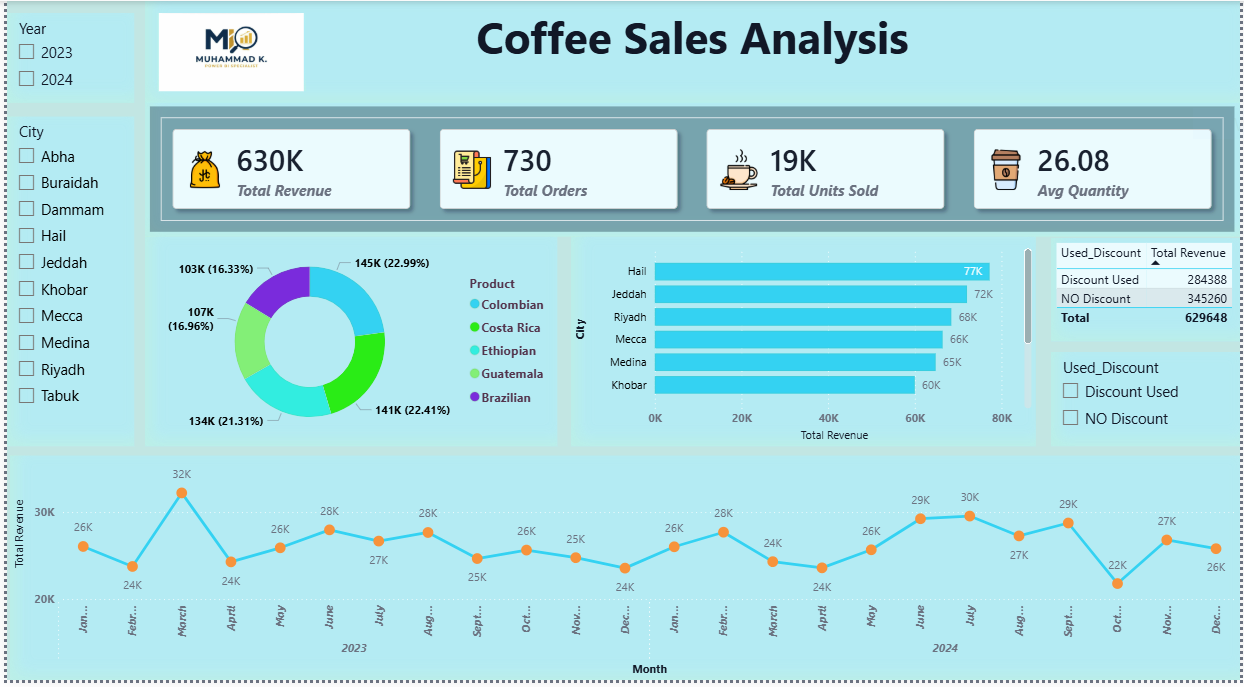

The dashboard page shown, as its layout file describes it:
{"tool":"powerbi","page":{"name":"Page 1","canvas":[1344,740],"ordinal":0},"visuals":[{"type":"cardVisual","fields":{"Data":["Coffee_Sales.Total Revenue","Coffee_Sales.Total Orders","Coffee_Sales.Total Units Sold","Coffee_Sales.Avg Quantity"]},"box":[150.4,109.5,1193.4,147.1],"z":0},{"type":"lineChart","fields":{"Category":["Coffee_Sales.Date.Variation.Date Hierarchy.Year","Coffee_Sales.Date.Variation.Date Hierarchy.Month"],"Y":["Coffee_Sales.Total Revenue"]},"box":[3.3,495.3,1340.5,245.2],"z":1000},{"type":"clusteredBarChart","fields":{"Category":["Coffee_Sales.City"],"Y":["Coffee_Sales.Total Revenue"]},"box":[614.7,256.7,506.8,228.9],"z":2000},{"type":"donutChart","fields":{"Category":["Coffee_Sales.Product"],"Y":["Coffee_Sales.Total Revenue"]},"box":[150.4,256.7,449.6,228.9],"z":3000},{"type":"slicer","fields":{"Values":["Coffee_Sales.Date.Variation.Date Hierarchy.Year"]},"box":[0,13.1,139,98.1],"z":4000},{"type":"slicer","fields":{"Values":["Coffee_Sales.City"]},"box":[0,125.9,139,359.7],"z":4002},{"type":"tableEx","fields":{"Values":["Coffee_Sales.Used_Discount","Coffee_Sales.Total Revenue"]},"box":[1137.8,258.3,206,112.8],"z":4003},{"type":"textbox","box":[150.4,0,1193.4,111.2],"z":4005},{"type":"image","box":[163.5,13.1,161.8,85],"z":4006},{"type":"slicer","fields":{"Values":["Coffee_Sales.Used_Discount"]},"box":[1137.8,382.5,206,103],"z":4007}]}

Visuals, with their boxes in screenshot pixels (x1, y1, x2, y2), scaled from the page's 1344x740 canvas onto the 1244x687 screenshot:
cardVisual - Coffee_Sales.Total Revenue x Coffee_Sales.Total Orders: x1=139 y1=102 x2=1243 y2=238
lineChart - Coffee_Sales.Date.Variation.Date Hierarchy.Year x Coffee_Sales.Date.Variation.Date Hierarchy.Month: x1=3 y1=460 x2=1243 y2=686
clusteredBarChart - Coffee_Sales.City x Coffee_Sales.Total Revenue: x1=569 y1=238 x2=1038 y2=451
donutChart - Coffee_Sales.Product x Coffee_Sales.Total Revenue: x1=139 y1=238 x2=555 y2=451
slicer - Coffee_Sales.Date.Variation.Date Hierarchy.Year: x1=0 y1=12 x2=129 y2=103
slicer - Coffee_Sales.City: x1=0 y1=117 x2=129 y2=451
tableEx - Coffee_Sales.Used_Discount x Coffee_Sales.Total Revenue: x1=1053 y1=240 x2=1243 y2=345
textbox: x1=139 y1=0 x2=1243 y2=103
image: x1=151 y1=12 x2=301 y2=91
slicer - Coffee_Sales.Used_Discount: x1=1053 y1=355 x2=1243 y2=451
